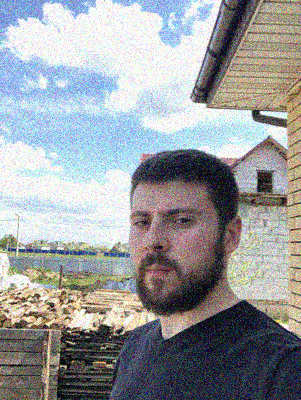without_mask: (129, 197, 212, 317)
